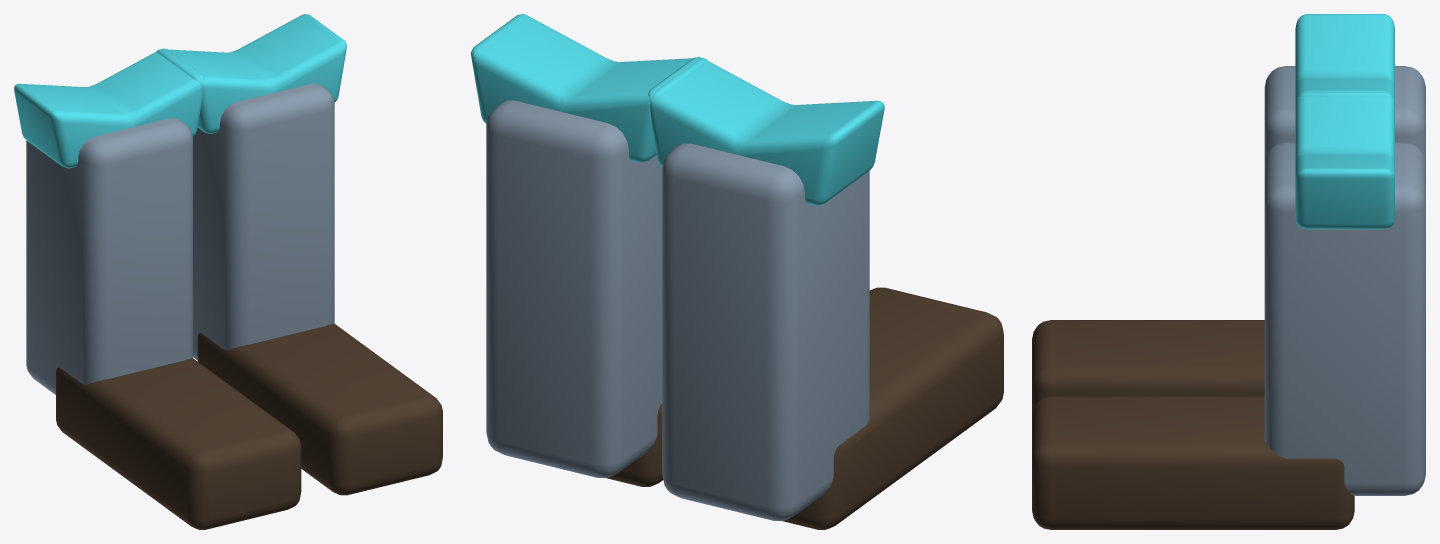
Rendered from boots_v8.glb.
3 views of the same model, side by side, from view 1: azimuth 30°, elevation 25°; view 2: azimuth 150°, elevation 25°; view 3: azimuth 270°, elevation 25° (orthographic). The views are drawn at different scales.
Visible parts, largest first — view 1: COURT_BOOT_PRIMARY, COURT_BOOT_PRIMARY.001, POINTED_FOOT_SECONDARY, POINTED_FOOT_SECONDARY.001, TURNED_CUFF_ACCENT, TURNED_CUFF_ACCENT.001; view 2: COURT_BOOT_PRIMARY, COURT_BOOT_PRIMARY.001, POINTED_FOOT_SECONDARY, TURNED_CUFF_ACCENT, TURNED_CUFF_ACCENT.001, POINTED_FOOT_SECONDARY.001; view 3: COURT_BOOT_PRIMARY.001, POINTED_FOOT_SECONDARY.001, POINTED_FOOT_SECONDARY, TURNED_CUFF_ACCENT.001, TURNED_CUFF_ACCENT, COURT_BOOT_PRIMARY.
Boxes of the visible parts, x1,y1,x2,y2 form: COURT_BOOT_PRIMARY: (26,118,192,394); COURT_BOOT_PRIMARY.001: (193,83,334,360); POINTED_FOOT_SECONDARY: (56,358,301,529); POINTED_FOOT_SECONDARY.001: (197,323,442,495); TURNED_CUFF_ACCENT: (14,48,204,168); TURNED_CUFF_ACCENT.001: (156,14,346,133); COURT_BOOT_PRIMARY: (662,143,869,520); COURT_BOOT_PRIMARY.001: (486,100,662,477); POINTED_FOOT_SECONDARY: (782,287,1003,529); TURNED_CUFF_ACCENT: (648,57,884,205); TURNED_CUFF_ACCENT.001: (471,14,707,162); POINTED_FOOT_SECONDARY.001: (606,403,663,486); COURT_BOOT_PRIMARY.001: (1264,142,1425,495); POINTED_FOOT_SECONDARY.001: (1032,396,1354,529); POINTED_FOOT_SECONDARY: (1032,320,1264,414); TURNED_CUFF_ACCENT.001: (1295,90,1394,229); TURNED_CUFF_ACCENT: (1295,14,1394,104); COURT_BOOT_PRIMARY: (1264,66,1425,162).
Bounding box in the file's own units: 1.59 × 1.75 × 1.66.
